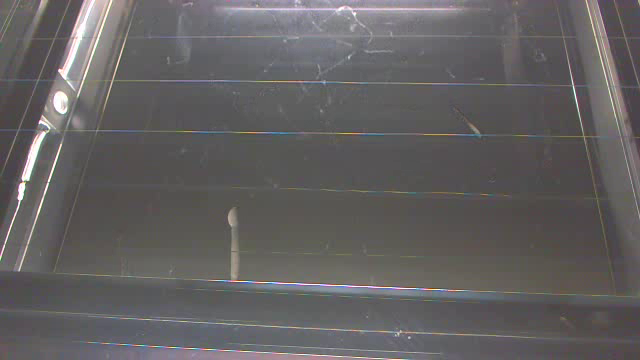alpha: (226, 203, 240, 281), (453, 108, 482, 140)
